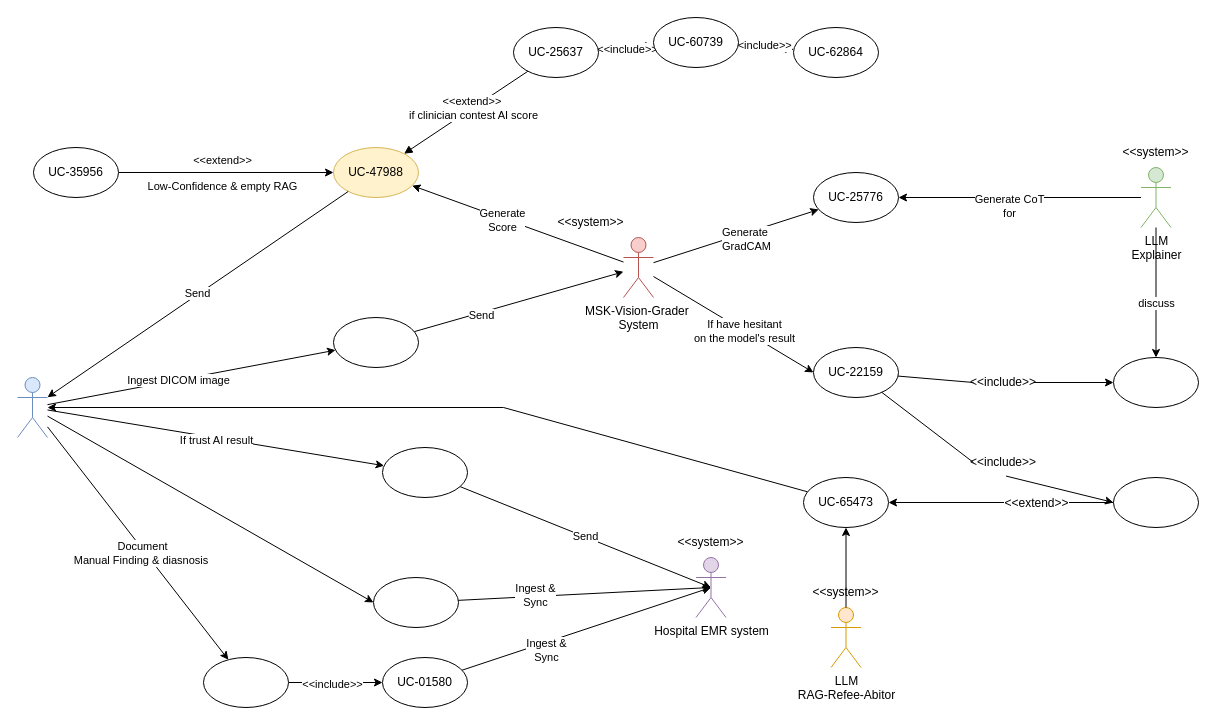
This 1216x725 diagram has some shape labels left out. Here are the shapes that lost their labels. From the top down, the centre of each, then its label:
At [375,342]: "UC-48376".
At [1155,382]: "UC-55146".
At [32,407]: "UP5".
At [425,472]: "UC-02423".
At [1155,502]: "UC-74281".
At [415,602]: "UC-92006".
At [245,682]: "UC-47796".
